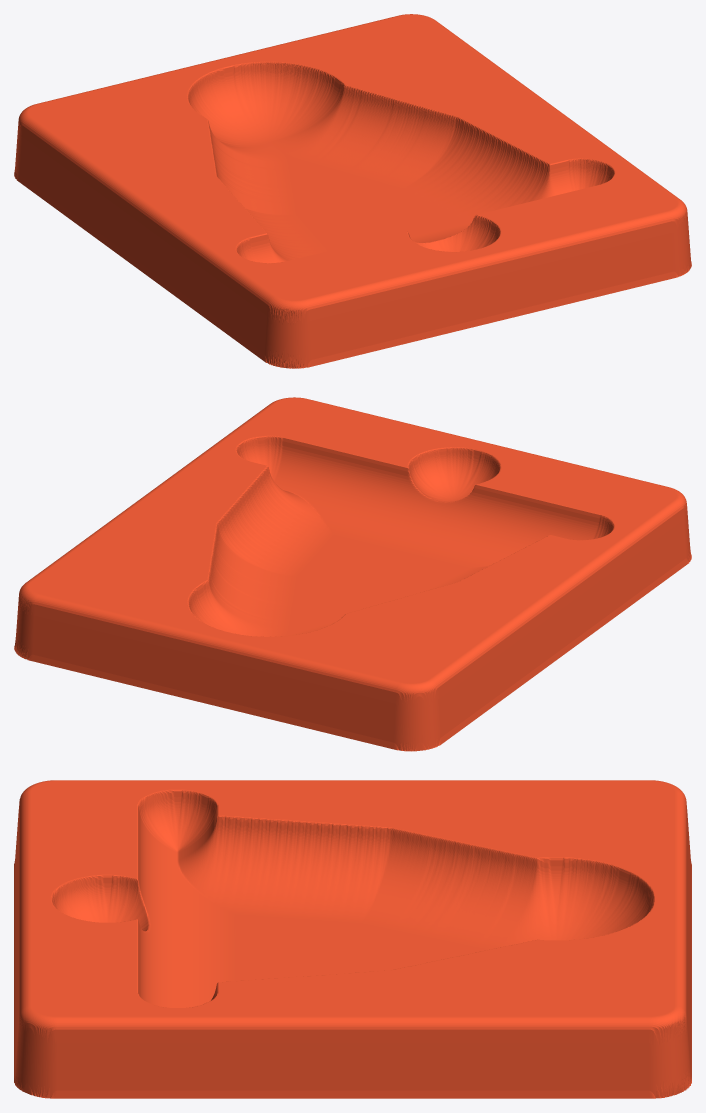
The model's file is mold.glb.
3 renders of one model, top to bottom at view 1: azimuth 30°, elevation 25°; view 2: azimuth 150°, elevation 25°; view 3: azimuth 270°, elevation 25°, orthographic. The views are drawn at different scales.
Parts seen in each view (by area): view 1: geometry_0; view 2: geometry_0; view 3: geometry_0.
Part boxes in pixels (left/top/right/bottom): geometry_0: left=14, top=14, right=691, bottom=368; geometry_0: left=14, top=397, right=691, bottom=751; geometry_0: left=14, top=780, right=691, bottom=1098.
Size of the model in its own units: 0.1251 by 0.0175 by 0.1435.
